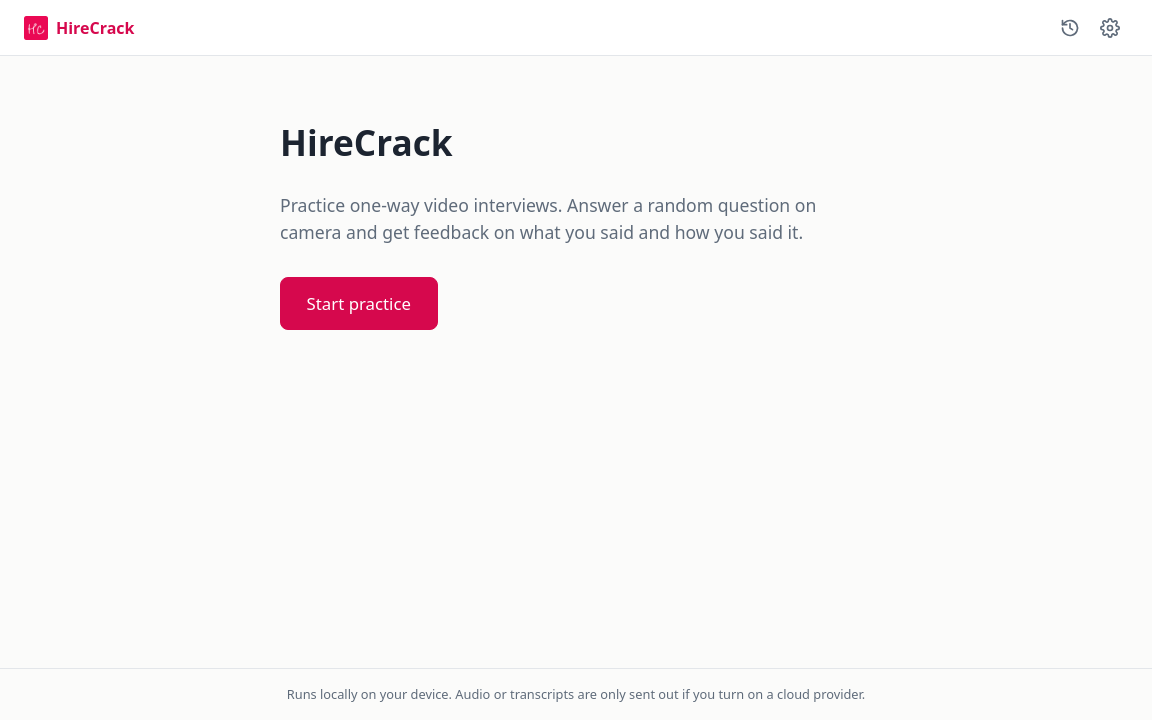
Test: History page › Clear history asks first, then empties the list
The image size is (1152, 720).
Click the button named "History": (1070, 28) left=1052, top=10, right=1088, bottom=46
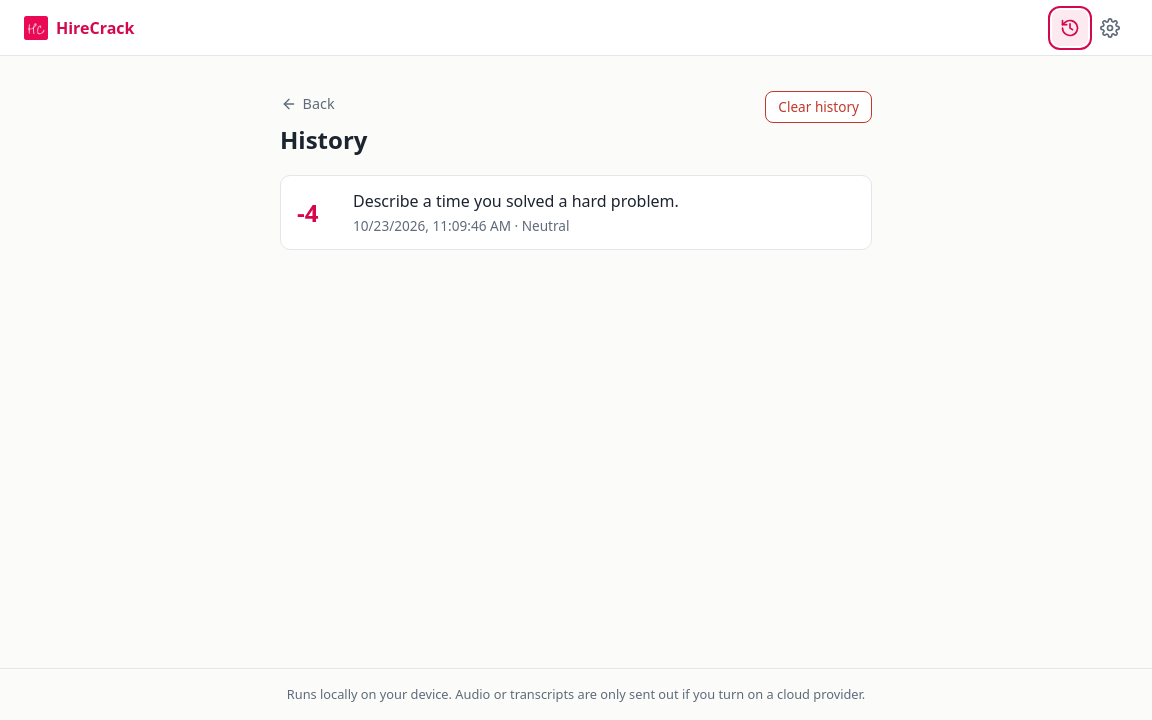
Click the button "Clear history": (819, 107) left=765, top=91, right=872, bottom=123
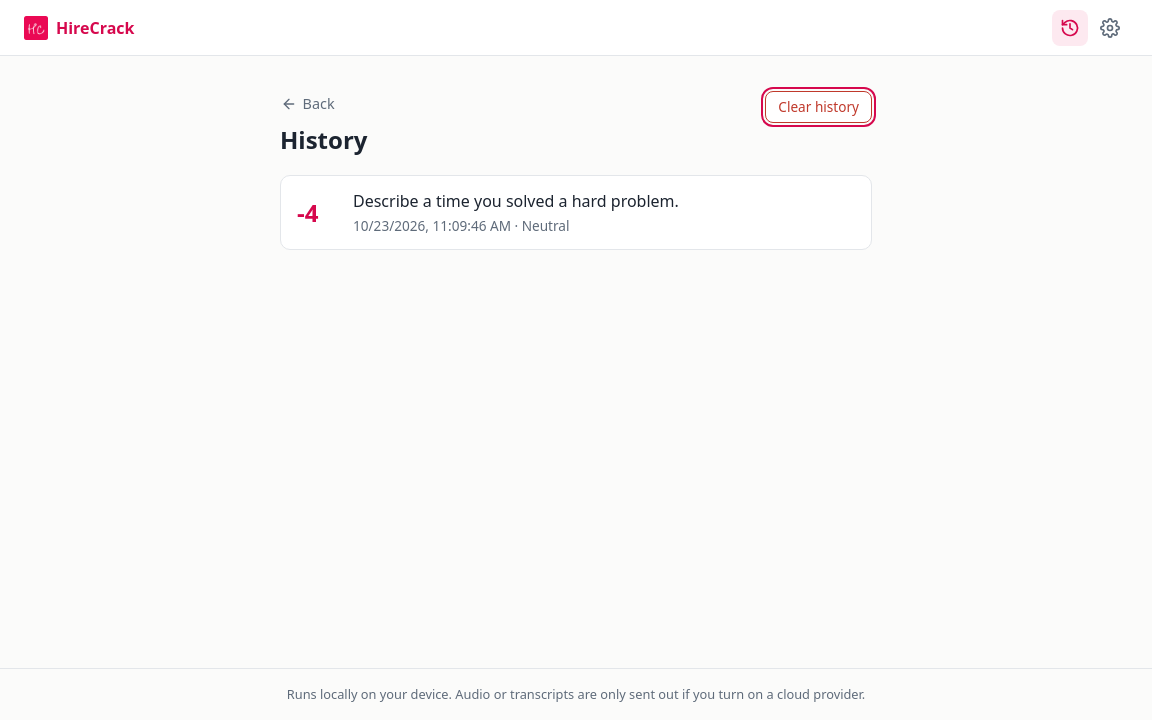
Click the button "Clear history": (819, 107) left=765, top=91, right=872, bottom=123
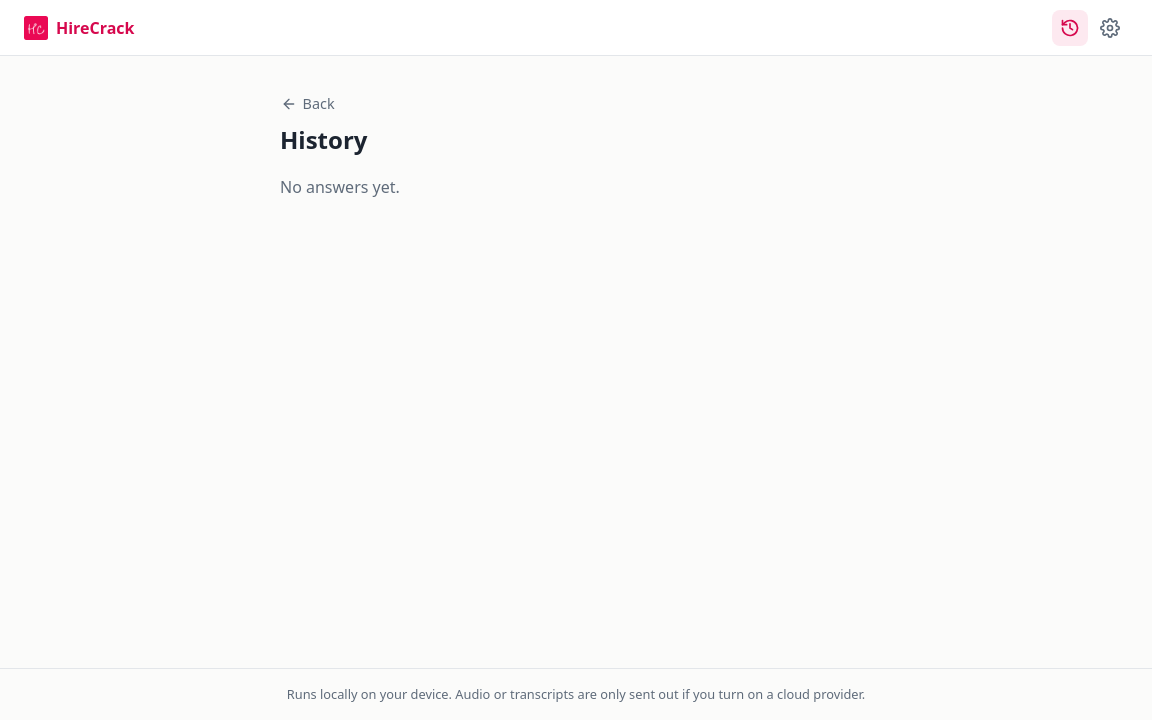
Expected: the text "No answers yet." is shown, left=280, top=176, right=400, bottom=198
